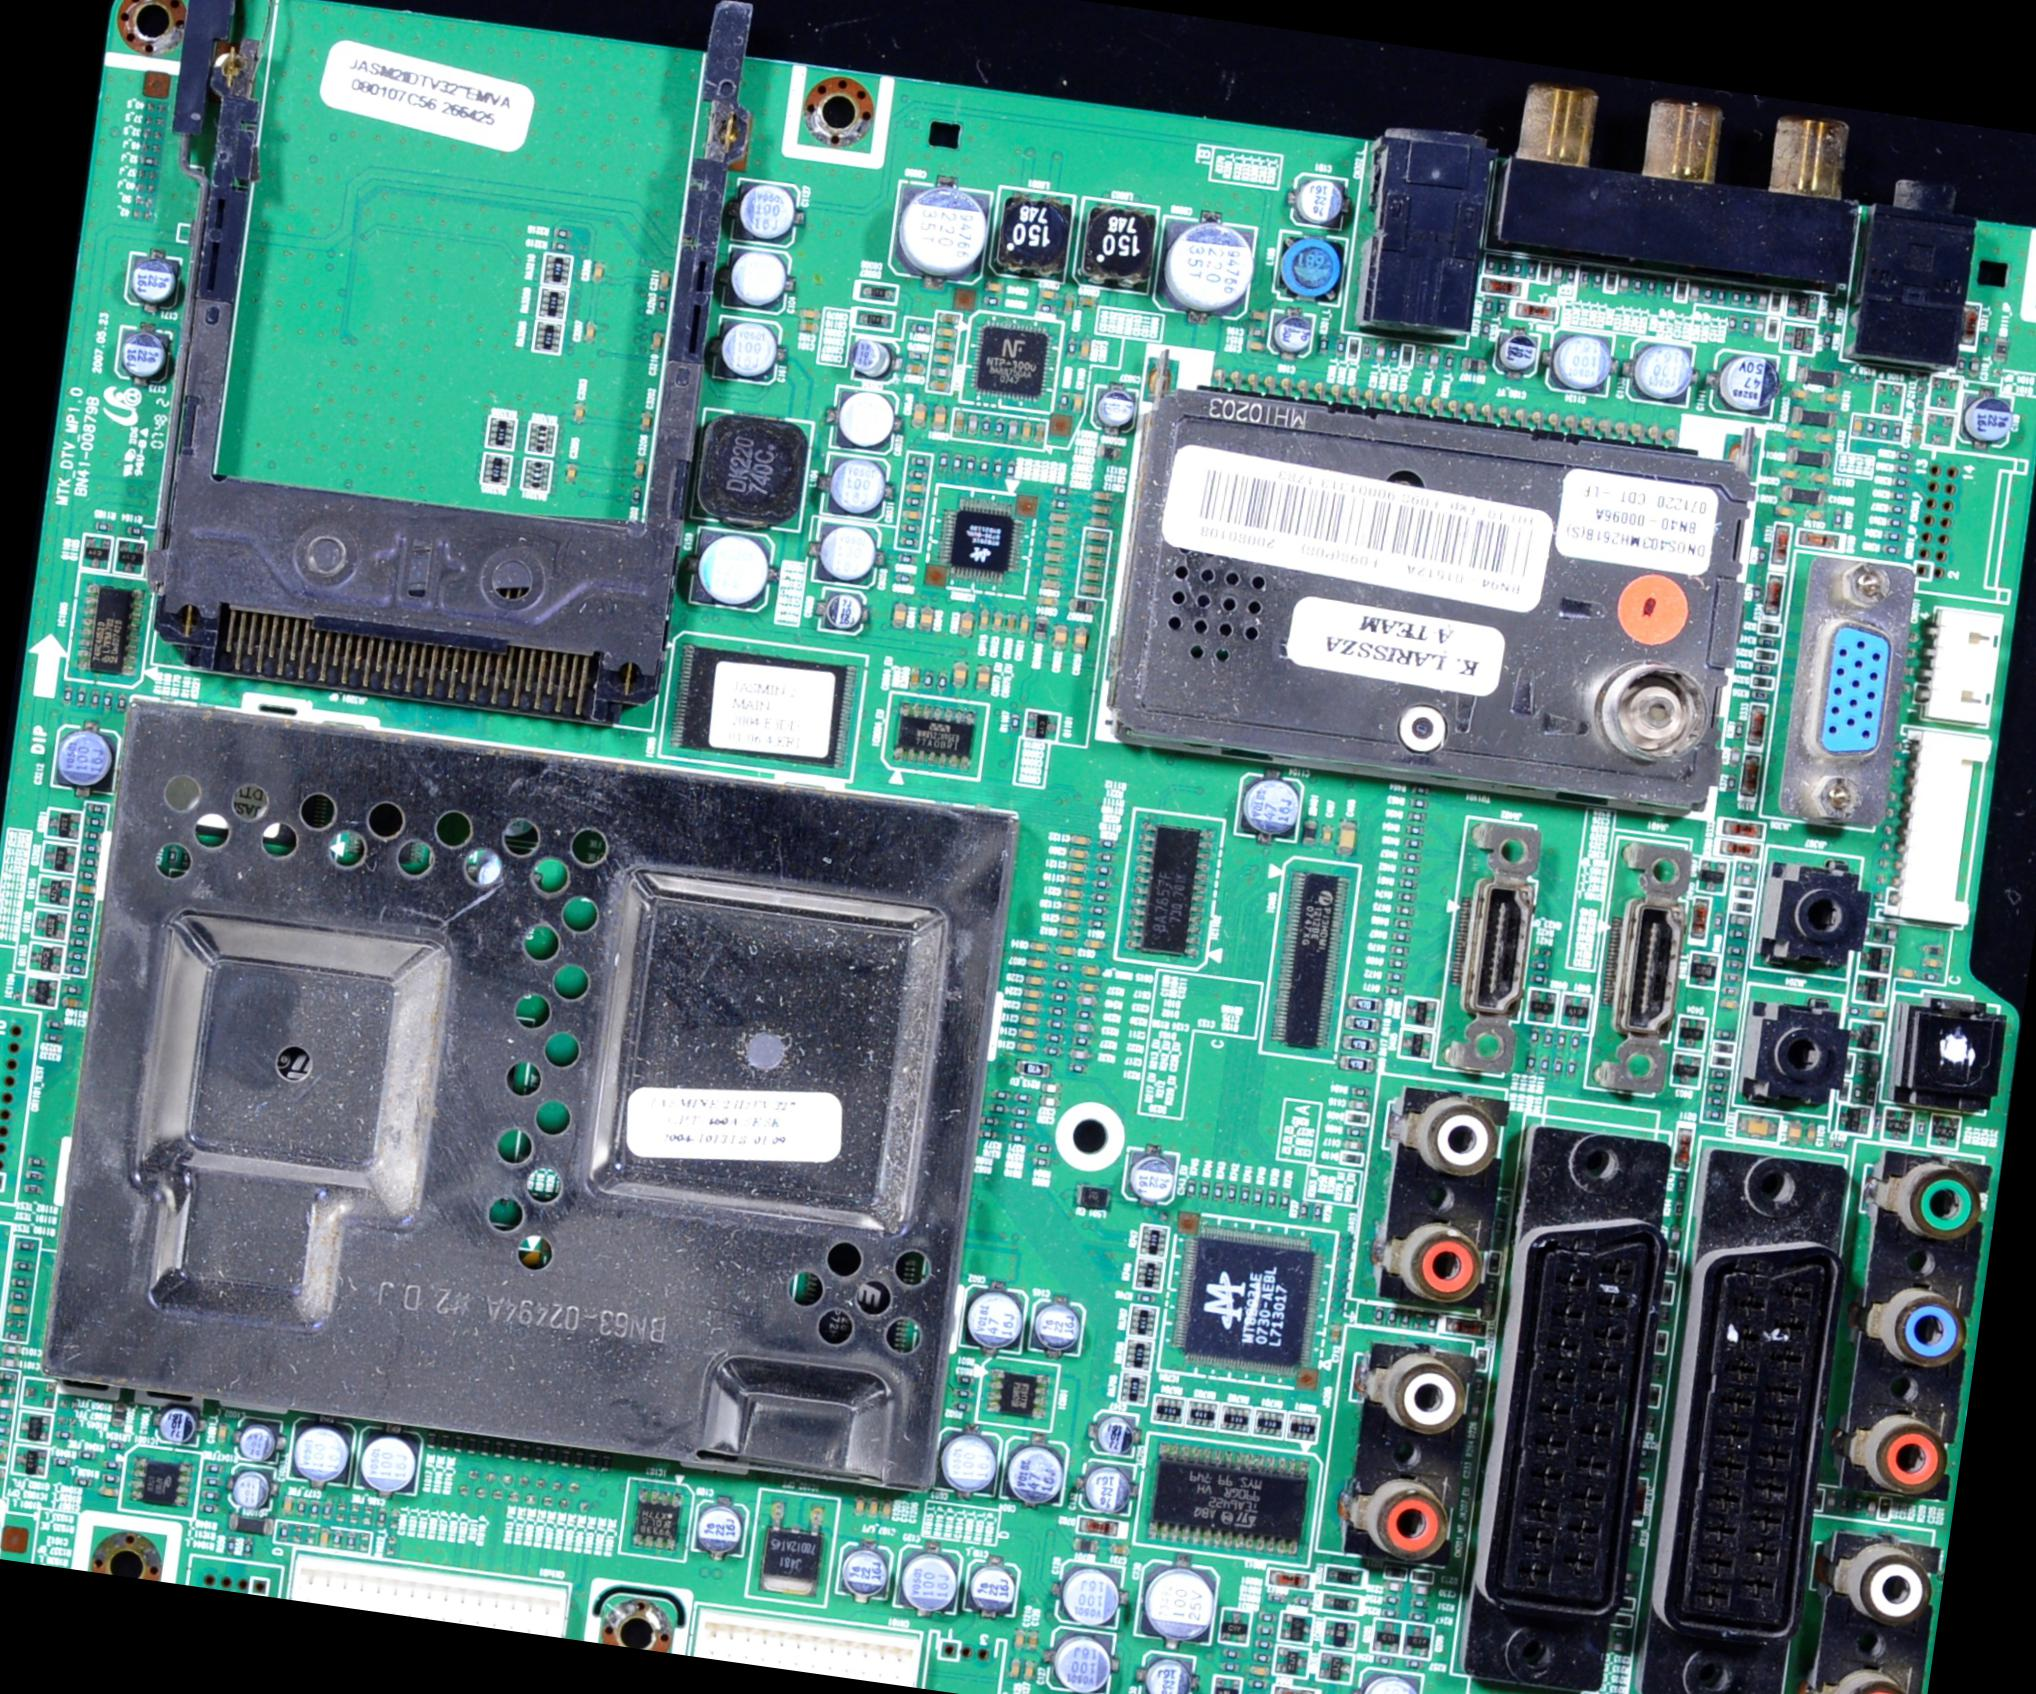Capacitor Jumper: (1332, 816, 1358, 858), (928, 403, 950, 433), (907, 401, 929, 431), (972, 663, 994, 692), (1050, 622, 1068, 651), (950, 660, 970, 686), (956, 611, 974, 638), (1071, 626, 1088, 653), (918, 604, 934, 632), (890, 601, 906, 629), (630, 455, 646, 482), (1074, 979, 1100, 995), (1067, 1046, 1092, 1062), (637, 410, 654, 433), (1318, 823, 1333, 848), (562, 462, 579, 484), (1002, 611, 1018, 634), (907, 666, 922, 690), (7, 1302, 32, 1316), (1071, 1019, 1094, 1034), (60, 994, 83, 1009), (1052, 942, 1075, 957), (583, 318, 596, 344), (1039, 1081, 1063, 1095), (1038, 1094, 1062, 1108), (1048, 510, 1069, 526), (1024, 956, 1048, 970), (982, 279, 1004, 294), (657, 270, 672, 292), (798, 305, 820, 320), (928, 378, 950, 393), (570, 402, 585, 424), (1066, 846, 1088, 861), (1019, 1000, 1042, 1014), (938, 312, 961, 326), (1082, 936, 1105, 950), (1019, 1014, 1041, 1028), (74, 882, 96, 896), (1014, 1040, 1036, 1054), (1750, 317, 1764, 339), (798, 320, 820, 334), (1808, 472, 1830, 486), (966, 414, 980, 436), (904, 480, 926, 494), (900, 508, 922, 522), (1040, 562, 1062, 576), (1064, 873, 1086, 887), (1017, 1027, 1040, 1040), (1078, 583, 1101, 596), (0, 1356, 21, 1370), (1092, 488, 1113, 502), (1079, 963, 1100, 977), (592, 260, 604, 284), (650, 330, 662, 354), (1060, 887, 1084, 899), (1024, 973, 1046, 986), (866, 1496, 879, 1518), (978, 608, 991, 630), (1067, 860, 1089, 873), (1616, 273, 1630, 293), (934, 338, 954, 352), (1019, 421, 1033, 441), (1058, 912, 1078, 926), (1028, 939, 1048, 953), (1074, 994, 1097, 1006), (1062, 293, 1074, 316), (952, 410, 964, 433), (1022, 988, 1043, 1001), (1084, 542, 1105, 555), (1921, 956, 1942, 969), (1057, 926, 1078, 939), (934, 326, 956, 338), (930, 352, 952, 364), (1088, 503, 1110, 515), (1061, 902, 1083, 914), (0, 1343, 20, 1356), (1250, 1665, 1270, 1678), (1687, 282, 1700, 302), (1078, 340, 1091, 360), (1082, 569, 1102, 582), (1824, 1491, 1836, 1512), (1038, 288, 1059, 300), (1076, 295, 1097, 307), (904, 362, 925, 374), (1033, 422, 1045, 443), (1046, 524, 1067, 536), (1083, 556, 1104, 568), (1068, 834, 1090, 845), (1109, 1544, 1129, 1556), (280, 1496, 292, 1516), (318, 1527, 330, 1547), (1756, 290, 1768, 310), (930, 366, 950, 378), (1006, 420, 1018, 440), (1086, 530, 1106, 542), (1044, 537, 1064, 549), (1042, 551, 1062, 563), (1017, 616, 1029, 636), (215, 1422, 226, 1443), (1037, 596, 1058, 607), (992, 611, 1003, 632), (1039, 578, 1062, 588), (1865, 1498, 1876, 1518), (880, 1499, 891, 1519), (98, 1486, 118, 1497), (1022, 1660, 1033, 1680), (1804, 510, 1824, 521), (1786, 428, 1804, 440), (1088, 516, 1106, 528), (1730, 914, 1748, 926), (1896, 966, 1914, 978), (1868, 1008, 1886, 1020), (1720, 998, 1738, 1010), (854, 1495, 864, 1516), (1608, 1642, 1629, 1652), (1852, 415, 1862, 436), (1728, 745, 1738, 766), (1790, 388, 1807, 400), (1911, 424, 1922, 442), (1072, 394, 1083, 412), (1734, 876, 1753, 886), (1009, 1658, 1019, 1676), (1774, 506, 1792, 516), (1385, 1582, 1402, 1592), (1780, 468, 1797, 478), (1015, 1630, 1024, 1648), (1028, 1633, 1037, 1651), (1822, 392, 1838, 402), (1816, 433, 1831, 443), (1412, 1586, 1429, 1594), (0, 1398, 12, 1409), (0, 1450, 5, 1461), (0, 1468, 5, 1479)
Connector: (291, 1554, 569, 1638), (1880, 728, 1992, 926), (694, 1610, 924, 1687), (1912, 608, 2004, 726)
IC: (758, 1502, 826, 1596), (119, 1444, 202, 1518), (632, 1488, 682, 1550), (1278, 1613, 1314, 1646), (17, 1412, 50, 1443), (1073, 1538, 1098, 1552)
Resistor Jumper: (1786, 1120, 1802, 1144), (551, 225, 573, 242), (1042, 1044, 1064, 1060), (1068, 1033, 1091, 1048), (1066, 1060, 1089, 1075), (1048, 990, 1072, 1004), (1237, 1185, 1252, 1207), (24, 1154, 46, 1169), (1092, 863, 1113, 878), (1044, 1017, 1066, 1031), (1043, 1031, 1065, 1045), (6, 1289, 28, 1303), (1086, 917, 1108, 931), (24, 1168, 47, 1181), (3, 1328, 26, 1341), (1051, 978, 1072, 992), (9, 1276, 30, 1290), (85, 802, 106, 816), (1052, 960, 1073, 974), (1264, 1188, 1276, 1212), (22, 1182, 44, 1195), (935, 670, 948, 692), (1087, 904, 1109, 917), (80, 841, 100, 855), (1224, 1183, 1238, 1203), (1184, 1178, 1198, 1198), (1310, 1202, 1324, 1222), (13, 1258, 33, 1272), (1008, 710, 1020, 733), (1047, 1005, 1068, 1018), (1278, 1190, 1291, 1211), (981, 294, 1002, 307), (909, 322, 930, 335), (1096, 837, 1117, 850), (83, 816, 104, 829), (1714, 286, 1728, 305), (1212, 1180, 1224, 1202), (1198, 1178, 1210, 1200), (1252, 1186, 1264, 1208), (922, 670, 934, 692), (1089, 891, 1111, 903), (42, 1031, 62, 1044), (1726, 312, 1739, 332), (1608, 1628, 1629, 1640), (1644, 276, 1656, 297), (907, 349, 928, 361), (1094, 850, 1115, 862), (1091, 878, 1112, 890), (15, 1239, 34, 1252), (1701, 285, 1714, 304), (1837, 1492, 1848, 1514), (72, 908, 92, 920), (66, 950, 86, 962), (44, 1018, 64, 1030), (1298, 1200, 1310, 1220), (1721, 986, 1741, 998), (1704, 1109, 1725, 1120), (1852, 1495, 1863, 1516), (386, 1537, 397, 1558), (1736, 861, 1757, 872), (1922, 945, 1943, 956), (69, 936, 88, 948), (1742, 290, 1755, 307), (1532, 945, 1549, 958), (64, 964, 84, 975), (1578, 268, 1589, 288), (80, 856, 98, 868), (1074, 1008, 1092, 1020), (1661, 280, 1673, 298), (1738, 316, 1750, 334), (1390, 944, 1408, 956), (1528, 974, 1546, 986), (549, 241, 568, 252), (1405, 824, 1422, 836), (1806, 1124, 1816, 1144), (348, 1504, 358, 1524), (295, 1498, 305, 1518), (200, 1490, 220, 1500), (78, 869, 96, 880), (1730, 288, 1741, 306), (1712, 912, 1723, 930), (1723, 972, 1741, 983), (1386, 971, 1404, 982), (82, 830, 101, 840), (1706, 1096, 1725, 1106), (56, 1417, 75, 1427), (388, 1509, 398, 1528), (359, 1533, 369, 1552), (242, 1538, 252, 1557), (1756, 546, 1766, 565), (1710, 1068, 1727, 1079), (320, 1502, 331, 1519), (1398, 878, 1415, 889), (1556, 1030, 1566, 1048), (74, 898, 92, 908), (72, 924, 90, 934), (1267, 1592, 1285, 1602), (103, 1460, 121, 1470), (52, 1457, 70, 1467), (101, 1474, 119, 1484), (308, 1500, 318, 1518), (335, 1503, 345, 1521), (1404, 1659, 1422, 1669), (200, 1504, 218, 1514), (332, 1530, 342, 1548), (306, 1526, 316, 1544), (278, 1522, 288, 1540), (292, 1526, 302, 1544), (345, 1533, 355, 1551), (1220, 1662, 1238, 1672), (1632, 276, 1642, 294), (1592, 271, 1602, 289), (1411, 786, 1429, 796), (1409, 799, 1427, 809), (1920, 971, 1938, 981), (1389, 958, 1404, 970), (1714, 1030, 1732, 1040), (1750, 585, 1761, 601), (1708, 1083, 1727, 1092), (1526, 1053, 1535, 1072), (1892, 421, 1901, 440), (1676, 1174, 1686, 1191), (1410, 1599, 1427, 1609), (1408, 1612, 1425, 1622), (56, 1430, 73, 1440), (1254, 1640, 1271, 1650), (1878, 421, 1888, 438), (1404, 838, 1421, 848), (1402, 864, 1417, 875), (1553, 1058, 1562, 1076), (1539, 1056, 1548, 1074), (1566, 1060, 1575, 1078), (363, 1507, 372, 1525), (376, 1509, 385, 1527), (1223, 1649, 1241, 1658), (1866, 419, 1875, 437), (1397, 893, 1415, 902), (1873, 1112, 1881, 1132), (0, 1372, 16, 1382), (1382, 1608, 1398, 1618), (1896, 452, 1912, 462), (1758, 636, 1774, 646), (1408, 812, 1424, 822), (1402, 852, 1418, 862), (1729, 929, 1745, 939), (1396, 904, 1412, 914), (1395, 920, 1411, 930), (1392, 932, 1408, 942), (1530, 960, 1546, 970), (1846, 1006, 1862, 1016), (1386, 986, 1402, 996), (532, 1448, 543, 1462), (439, 1436, 450, 1450), (1543, 1029, 1552, 1046), (1888, 505, 1905, 514), (73, 1478, 92, 1486), (520, 1446, 530, 1461), (1257, 1624, 1272, 1634), (1725, 958, 1740, 968), (1530, 1028, 1538, 1046), (1916, 1118, 1924, 1136), (58, 1400, 76, 1408), (1384, 1595, 1400, 1604), (1294, 1598, 1312, 1606), (203, 1478, 221, 1486), (1883, 544, 1899, 553), (1734, 721, 1742, 739), (1727, 774, 1735, 792), (1726, 946, 1742, 955), (466, 1440, 476, 1454), (1259, 1612, 1273, 1622), (1570, 1034, 1578, 1051), (204, 1464, 221, 1472), (1375, 1656, 1392, 1664), (1253, 1654, 1270, 1662), (226, 1538, 234, 1555), (1674, 1201, 1683, 1216), (0, 1385, 15, 1394), (1895, 464, 1910, 473), (1828, 1140, 1844, 1148), (495, 1440, 503, 1456), (454, 1436, 462, 1452), (78, 1450, 94, 1458), (1249, 1680, 1265, 1688), (1754, 664, 1770, 672), (560, 1450, 569, 1464), (426, 1434, 435, 1448), (1752, 690, 1766, 699), (507, 1444, 515, 1459), (1891, 492, 1906, 500), (1884, 532, 1899, 540), (574, 1452, 582, 1466), (548, 1448, 555, 1464), (588, 1456, 596, 1470), (480, 1440, 488, 1454), (1893, 479, 1907, 487), (0, 1411, 11, 1421), (602, 1456, 609, 1468), (1888, 520, 1902, 526), (0, 1427, 9, 1435), (0, 1439, 8, 1448)
Transistor: (1315, 1650, 1353, 1684), (1928, 1114, 1961, 1150), (1852, 972, 1889, 1004), (1688, 951, 1720, 988), (1526, 988, 1558, 1025), (1856, 942, 1894, 973), (1401, 997, 1439, 1028), (1370, 1619, 1403, 1654), (1880, 1108, 1912, 1144), (1846, 1020, 1882, 1052), (1398, 1030, 1435, 1061), (22, 1378, 57, 1410), (1402, 1624, 1433, 1660), (1696, 858, 1727, 894), (1559, 993, 1590, 1029), (11, 1446, 46, 1477), (1273, 1646, 1308, 1677), (1322, 1618, 1358, 1648), (1219, 1610, 1248, 1644), (1676, 1016, 1705, 1049), (1837, 1106, 1870, 1134), (1670, 1056, 1700, 1086), (1211, 1676, 1240, 1693)
